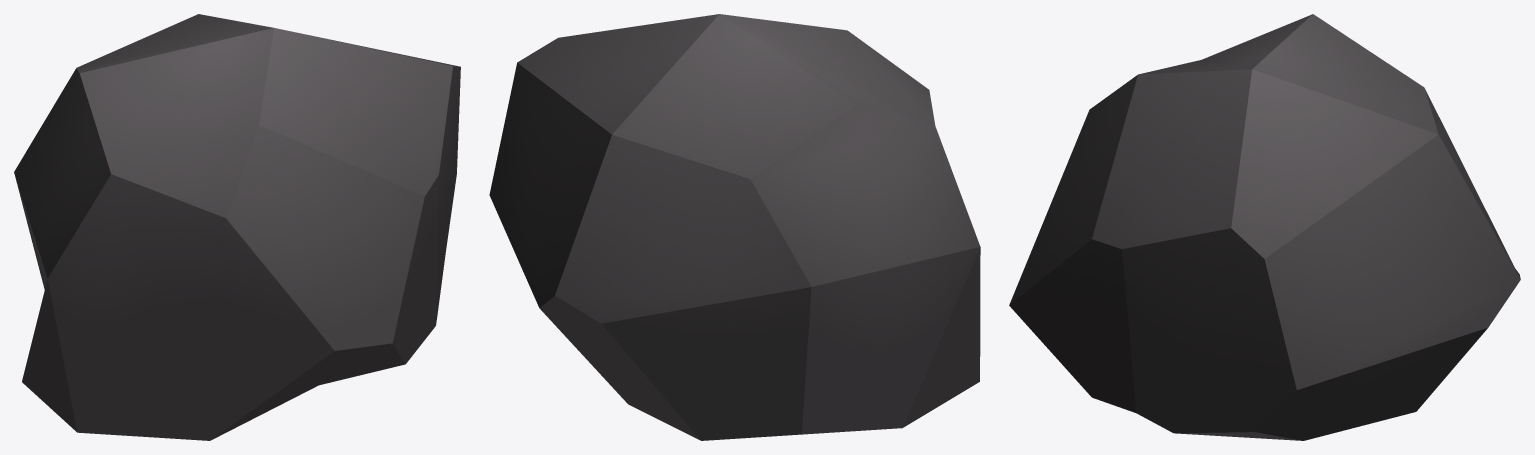
Rendered from SmallSize_RockDark.fbx.
3 renders of one model, left to right at view 1: azimuth 30°, elevation 25°; view 2: azimuth 150°, elevation 25°; view 3: azimuth 270°, elevation 25°, orthographic. The views are drawn at different scales.
Visible parts, largest first — view 1: SmallSize_RockDark; view 2: SmallSize_RockDark; view 3: SmallSize_RockDark.
Part boxes in pixels (bbox=[...]): SmallSize_RockDark: bbox=[14, 14, 460, 440]; SmallSize_RockDark: bbox=[489, 14, 980, 440]; SmallSize_RockDark: bbox=[1009, 14, 1520, 440].
Bounding box in the file's own units: 1.65 × 1.16 × 1.59.
Materials: 1 (1 with a texture image).
